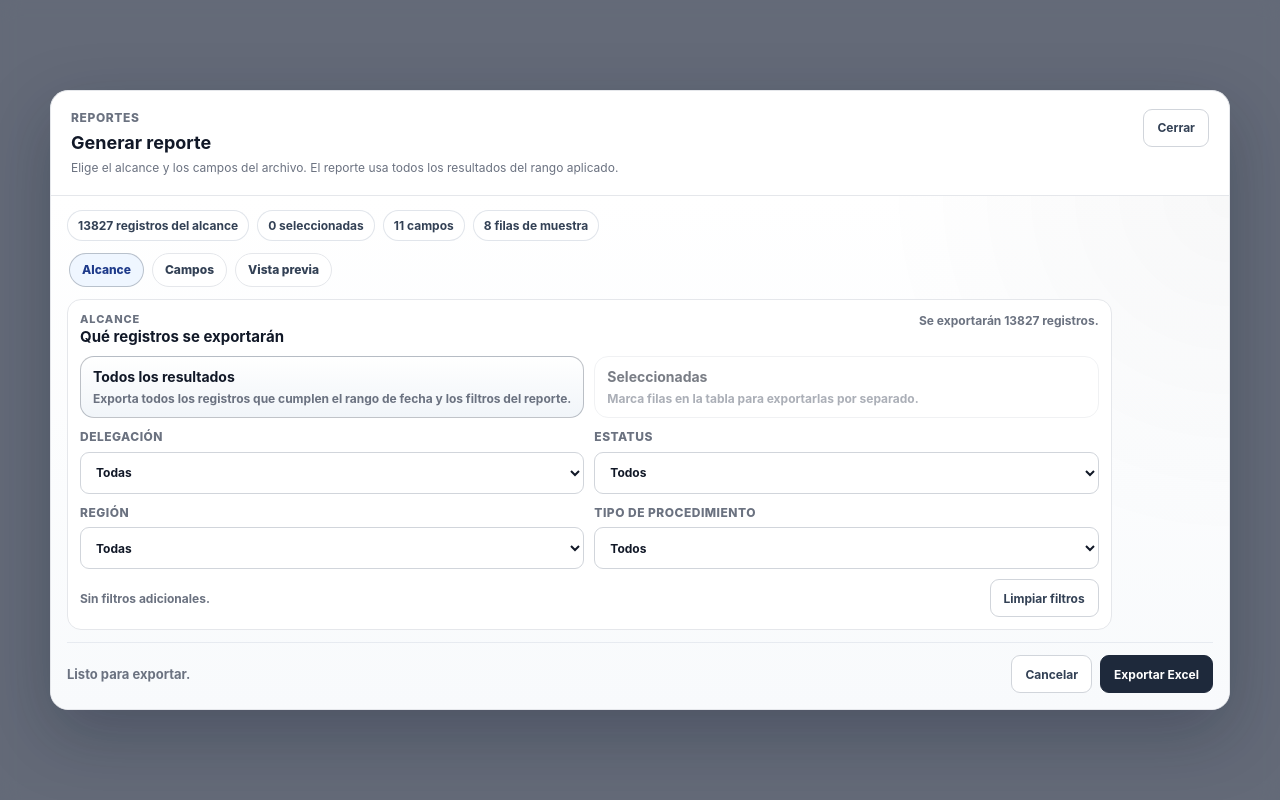
Test: InfraccionesReportModal exportacion Excel › usa el total confirmado del backend y separa la muestra local de 30 registros
The width and height of the screenshot is (1280, 800).
Expected: the text "13827 registros del alcance" is shown, [67,210,249,241]
Click the tab "Vista previa" at x=284, y=270, box [235,253,332,287]
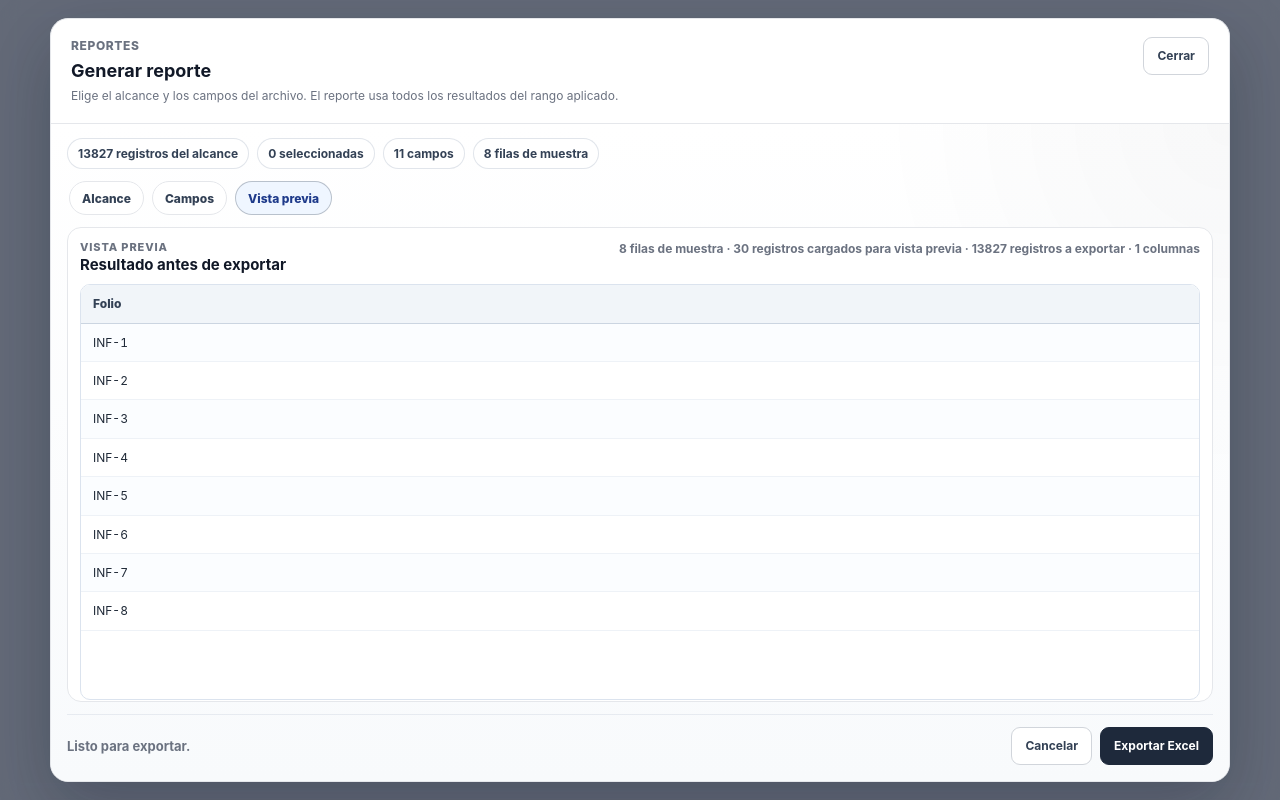
Result: the text "8 filas de muestra" is shown 2 times at [473,138,599,169]; [619,240,1200,258]
Result: the text "13827 registros a exportar" is shown at [619,241,1200,256]
